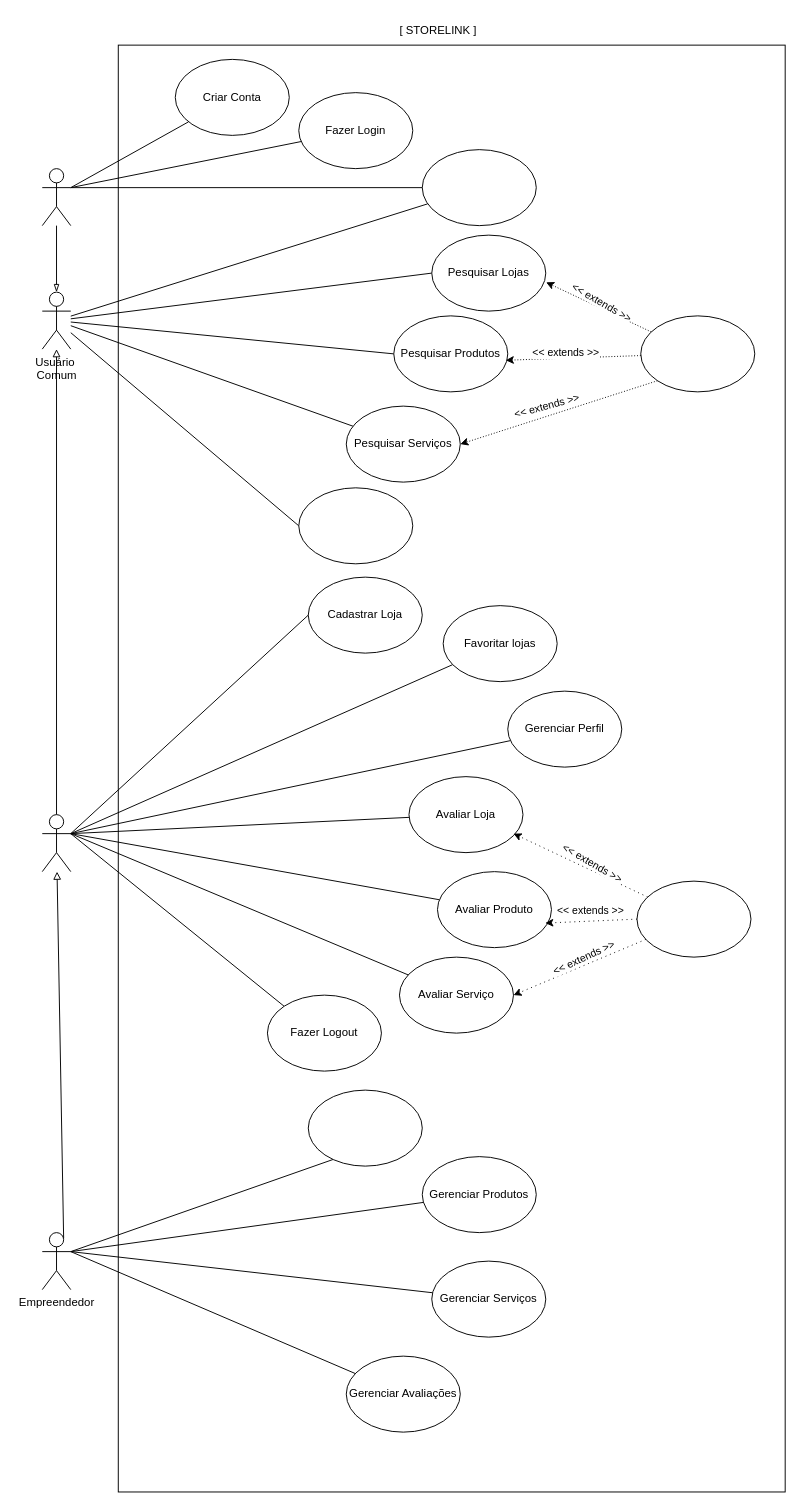
Image size: 803x1509. Some labels were removed from this diagram. The box of each missing label's shape, as (x1, y1, x2, y2) in pixels:
Acionar Suporte: (298, 487, 413, 564)
Consultar Manual: (421, 149, 536, 226)
Consumidor: (41, 814, 71, 872)
Fazer Comentário: (636, 880, 751, 957)
Filtrar por Categoria: (640, 315, 755, 392)
Gerenciar Loja: (307, 1089, 422, 1166)
Usuário não autenticado: (41, 168, 71, 226)
